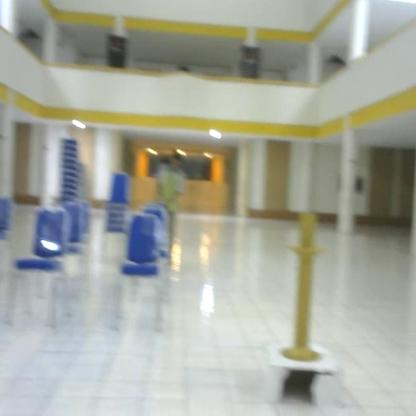pole: (274, 204, 335, 378)
